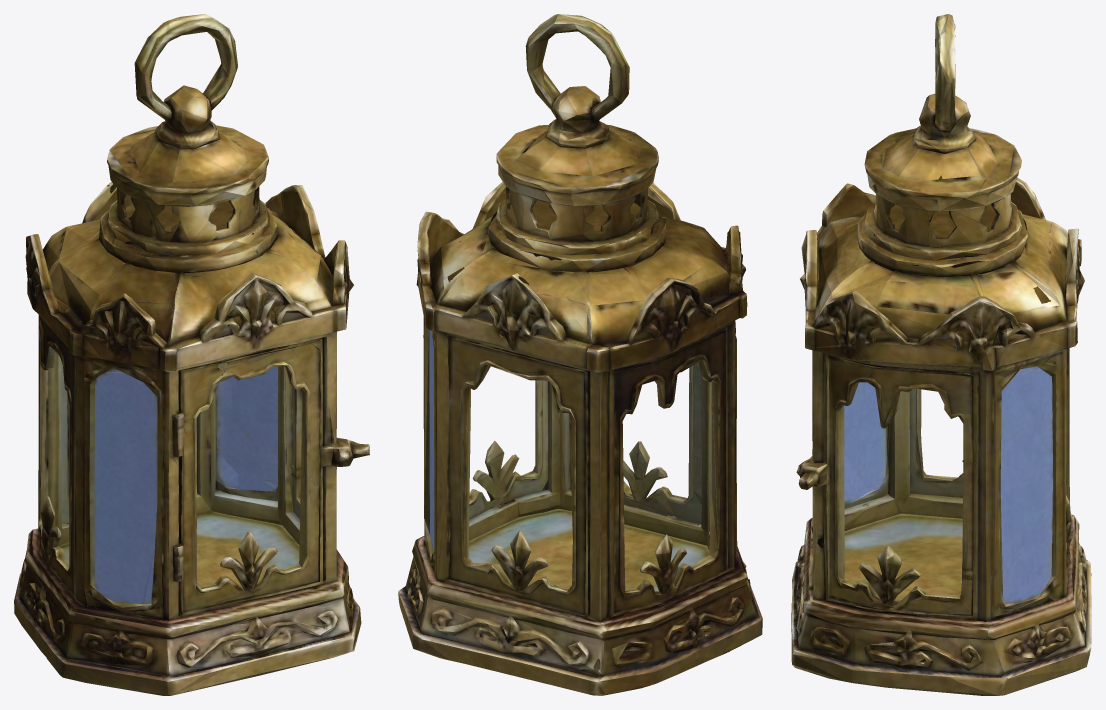
The model's file is dress-lantern.glb.
3 renders of one model, left to right at view 1: azimuth 30°, elevation 25°; view 2: azimuth 150°, elevation 25°; view 3: azimuth 270°, elevation 25°, orthographic.
Size of the model in its own units: 0.5298 by 0.9956 by 0.4495.
Materials: 1 (1 with a texture image).
